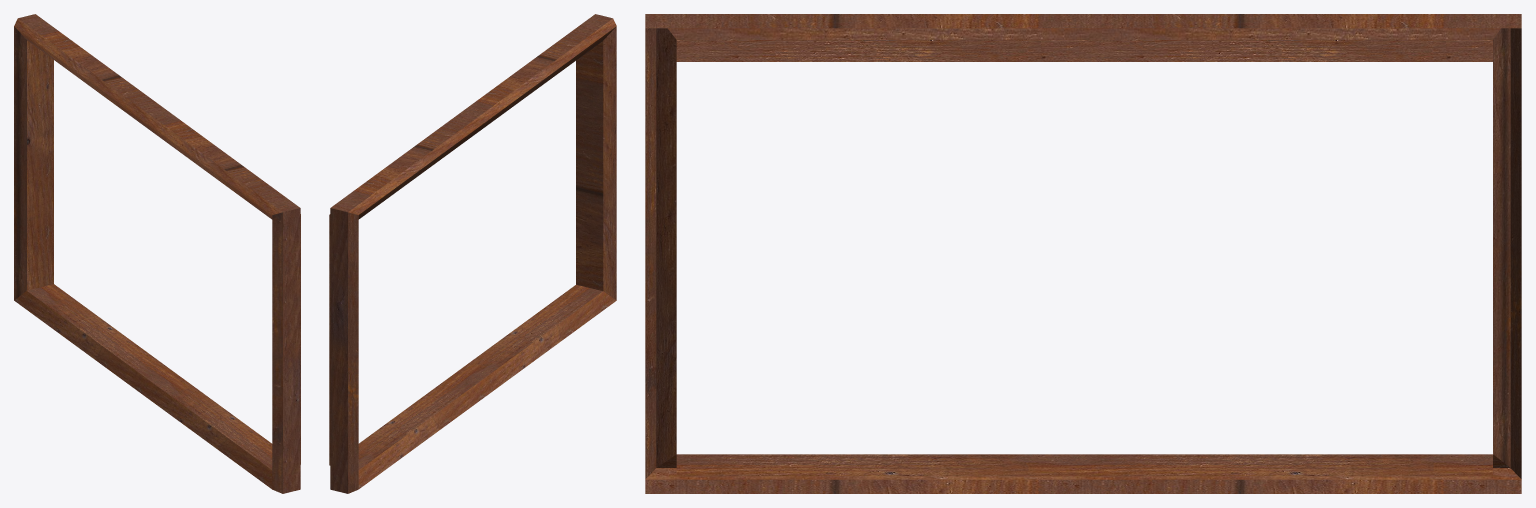
Rendered from Window.obj.
3 views of the same model, side by side, from view 1: azimuth 30°, elevation 25°; view 2: azimuth 150°, elevation 25°; view 3: azimuth 270°, elevation 25° (orthographic). The views are drawn at different scales.
Visible parts, largest first — view 1: Plane.002_Plane.034; view 2: Plane.002_Plane.034; view 3: Plane.002_Plane.034.
Boxes of the visible parts, x1,y1,x2,y2 form: Plane.002_Plane.034: [14, 14, 300, 493]; Plane.002_Plane.034: [329, 14, 616, 493]; Plane.002_Plane.034: [645, 14, 1521, 493].
Size of the model in its own units: 0.6786 by 5.27 by 8.99.
